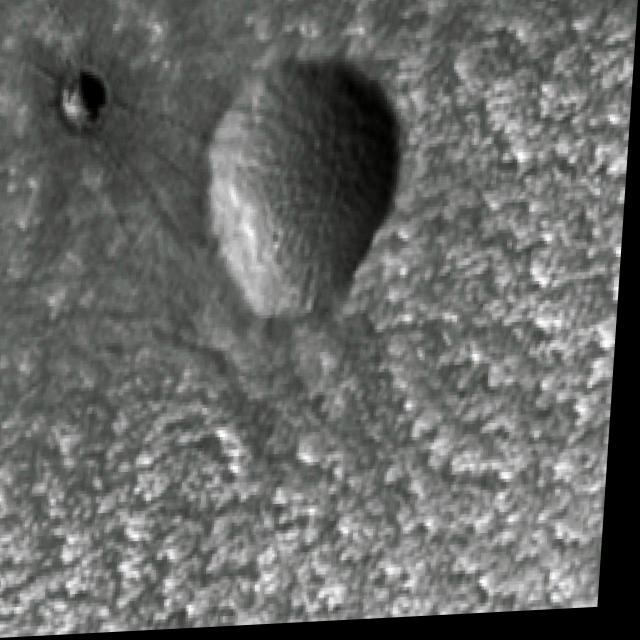Crater: (183, 22, 433, 365), (39, 49, 115, 152)
